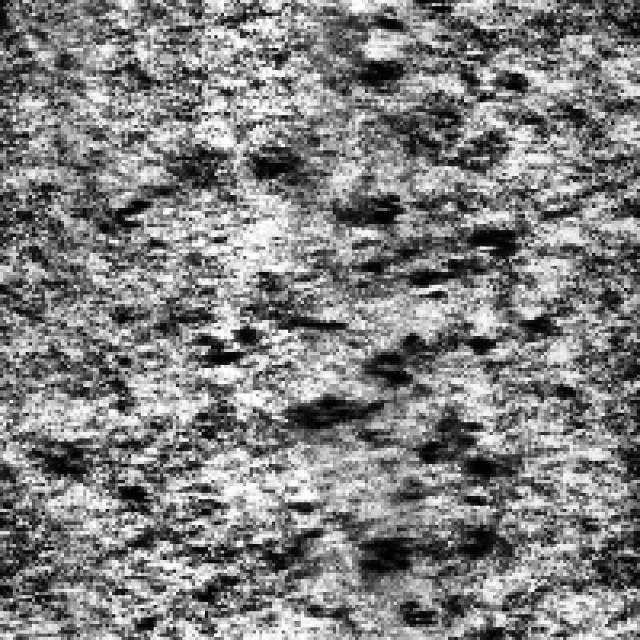Crazing: (179, 170, 566, 473), (266, 317, 518, 637)
